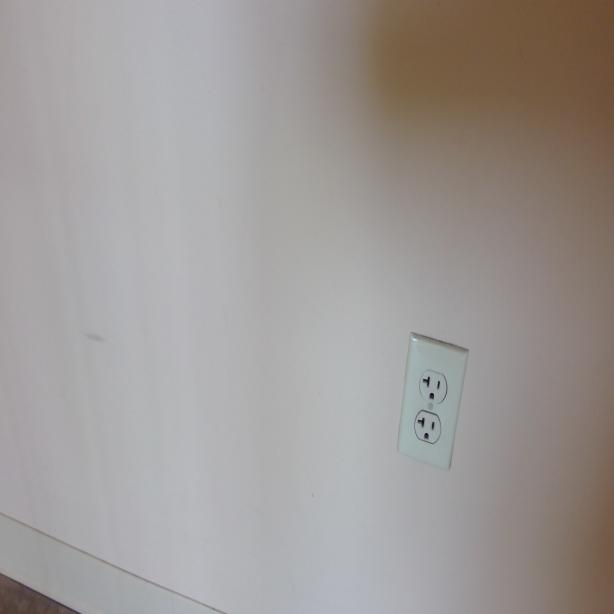typeb: (420, 370, 446, 407), (415, 412, 439, 443)
